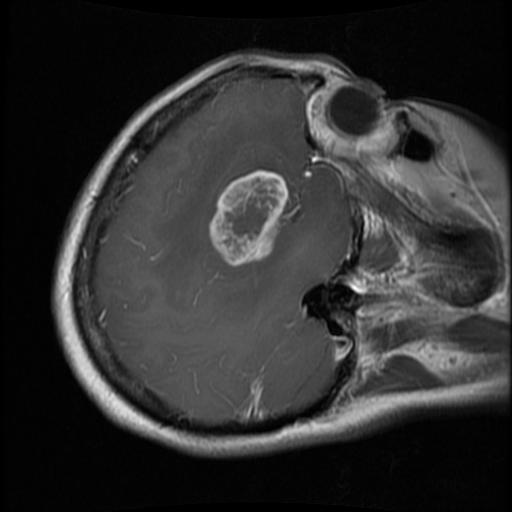glioma: (208, 170, 289, 269)
